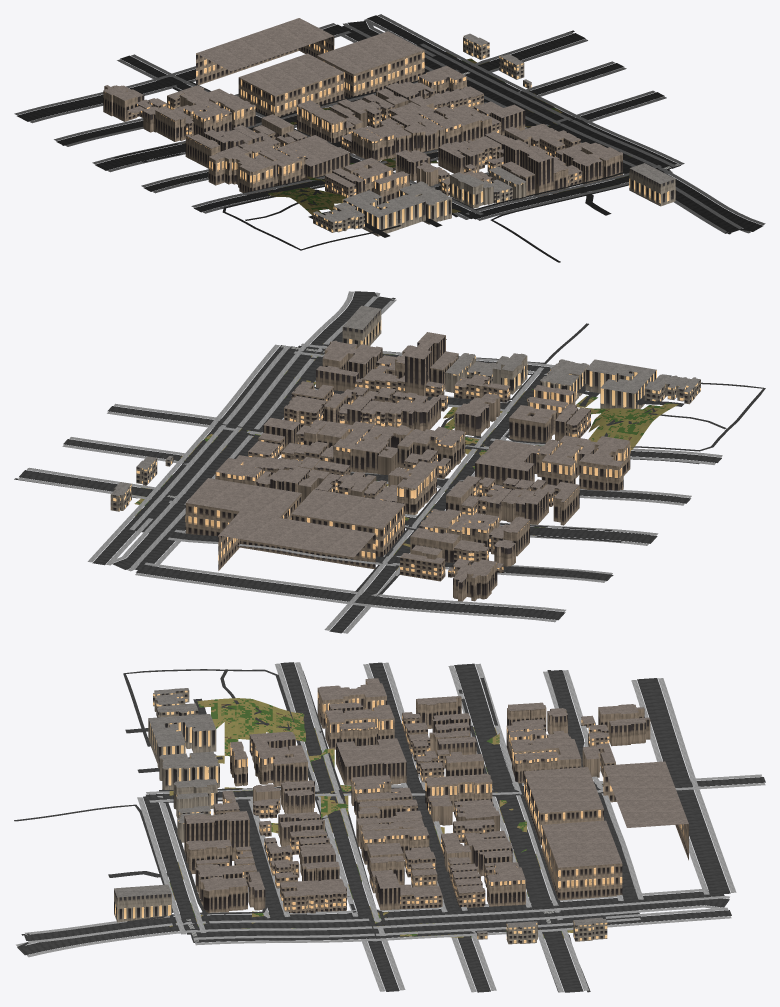
The model's file is tile_30_-29.gltf.
3 views of the same model, one above another, from view 1: azimuth 30°, elevation 25°; view 2: azimuth 150°, elevation 25°; view 3: azimuth 270°, elevation 25° (orthographic). The views are drawn at different scales.
Parts seen in each view (by area): view 1: Buildings_col, Roads, Sidewalks, Terrain_col; view 2: Buildings_col, Roads, Sidewalks, Terrain_col; view 3: Buildings_col, Roads, Sidewalks, Terrain_col.
Boxes of the visible parts, box(x1,y1,x2,y2) form: Buildings_col: box(103, 18, 675, 236); Roads: box(17, 15, 763, 262); Sidewalks: box(14, 14, 765, 233); Terrain_col: box(182, 52, 630, 215); Buildings_col: box(110, 305, 700, 601); Roads: box(14, 291, 765, 633); Sidewalks: box(18, 291, 722, 633); Terrain_col: box(132, 343, 678, 570); Buildings_col: box(114, 678, 688, 944); Roads: box(14, 662, 765, 992); Sidewalks: box(16, 662, 765, 992); Terrain_col: box(169, 698, 602, 938).
Bounding box in the file's own units: 403 × 40.33 × 438.
8 materials, 8 textured.
